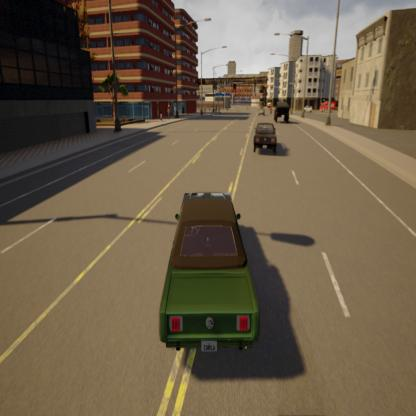Cars: (154, 179, 268, 368), (253, 122, 280, 157), (271, 92, 290, 125)
